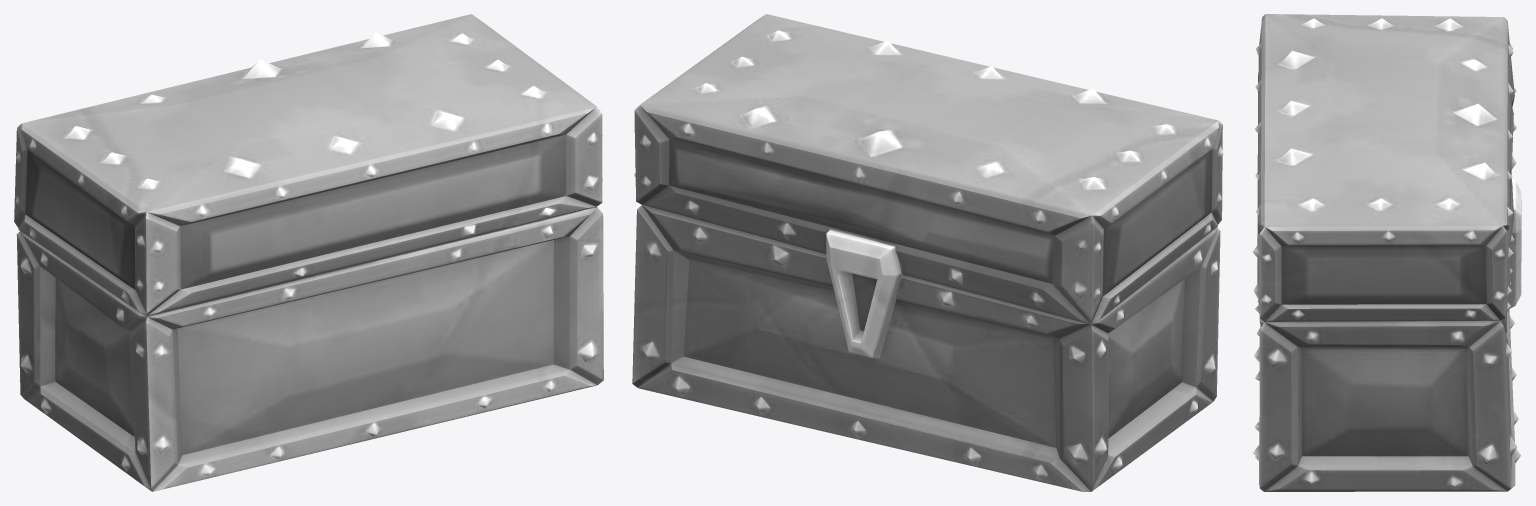
File: obj_chest02_alt.gltf
The picture shows the model from 3 angles, left to right: view 1: azimuth 30°, elevation 25°; view 2: azimuth 150°, elevation 25°; view 3: azimuth 270°, elevation 25°; orthographic projection. The views are drawn at different scales.
Parts seen in each view (by area): view 1: obj_chest02_alt; view 2: obj_chest02_alt; view 3: obj_chest02_alt.
Part boxes in pixels (x1,y1,x2,y2): obj_chest02_alt: [14, 14, 603, 491]; obj_chest02_alt: [632, 14, 1223, 491]; obj_chest02_alt: [1252, 14, 1521, 491].
Size of what is drawn, in the model's own units: 1.47 by 0.8881 by 0.7629.
Materials: 1 (1 with a texture image).
